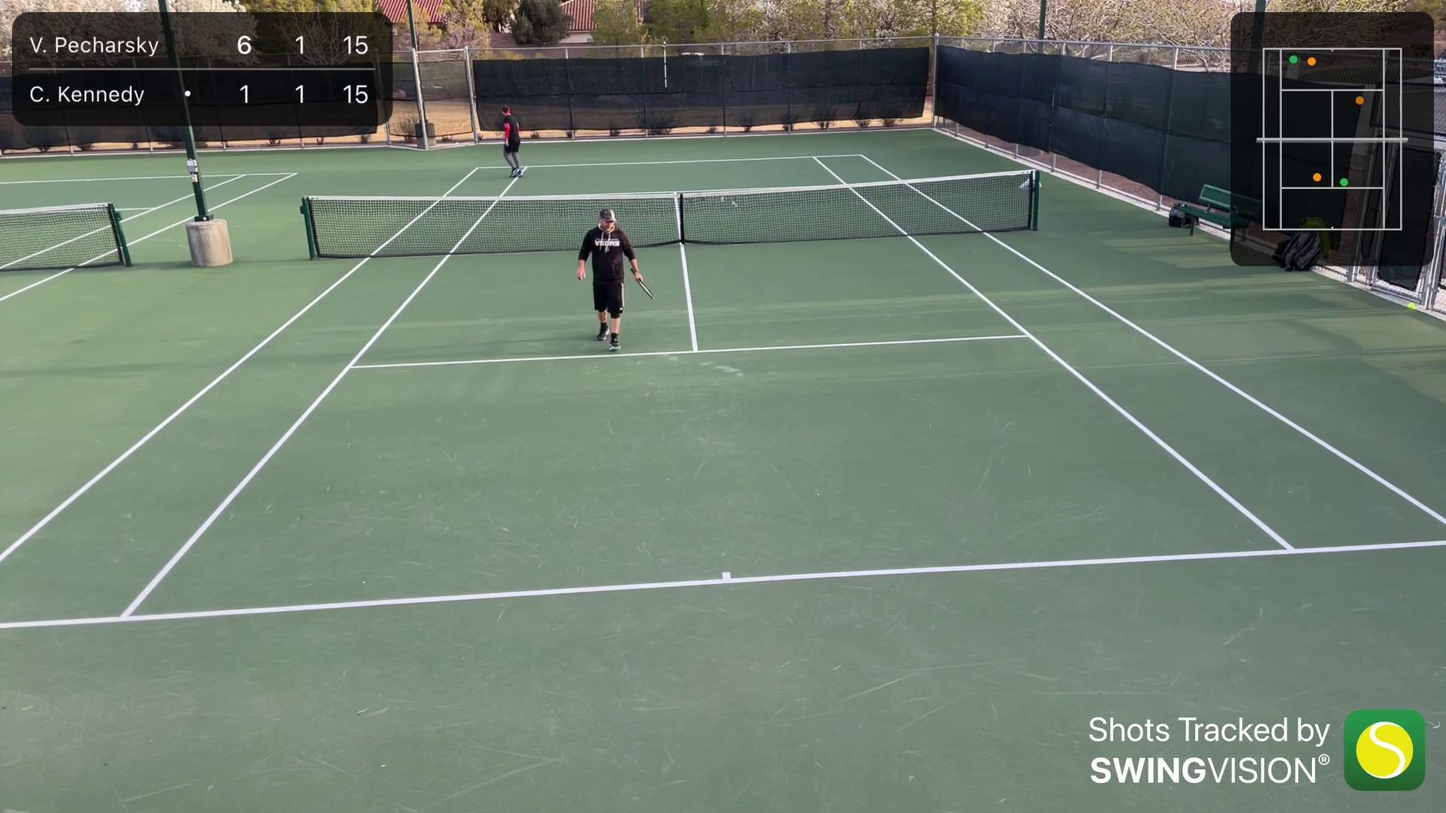ball: (455, 140, 460, 147)
